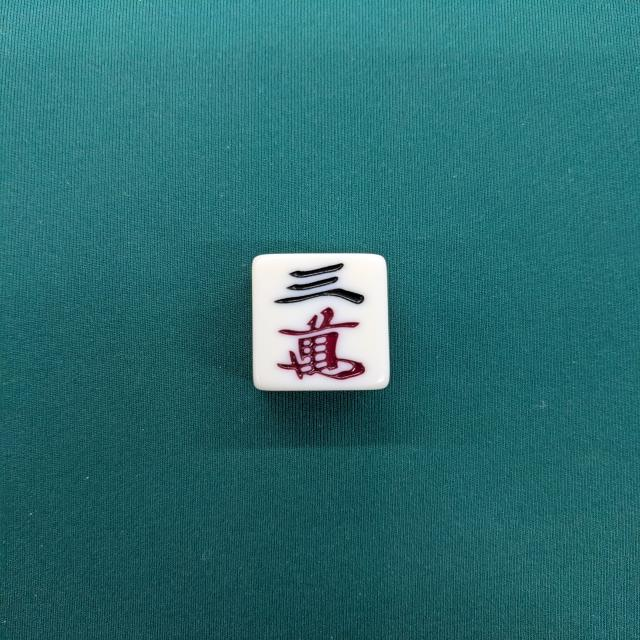3m: (249, 253, 391, 395)
